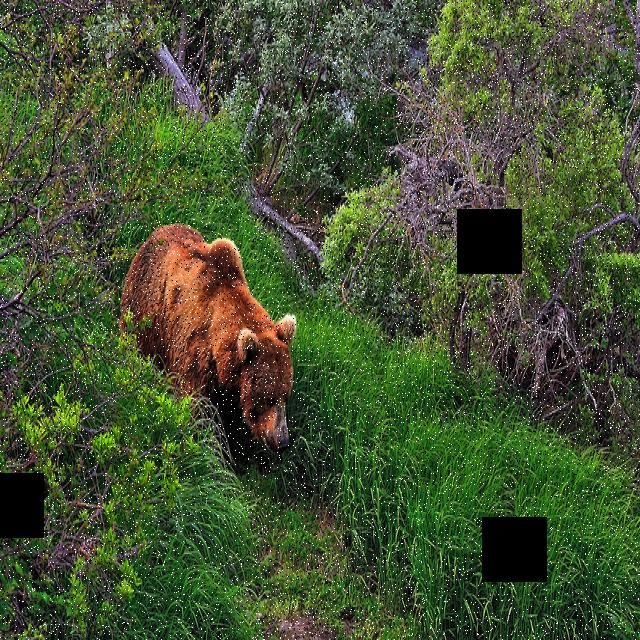Bear: (118, 214, 293, 462)
